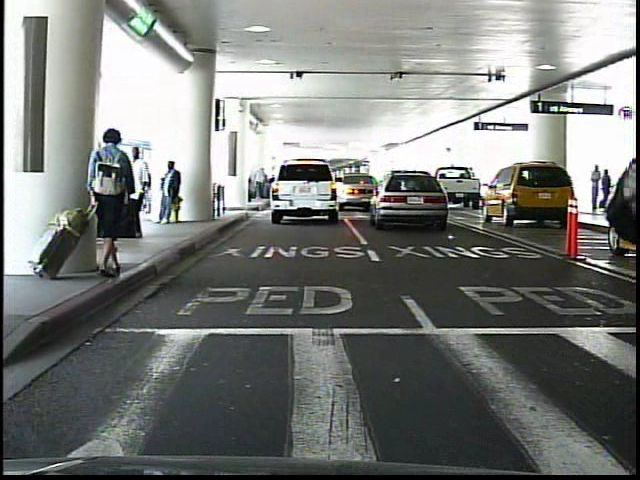person: (89, 125, 139, 280), (122, 145, 150, 239), (159, 160, 185, 228), (586, 165, 601, 213), (598, 166, 614, 210)
